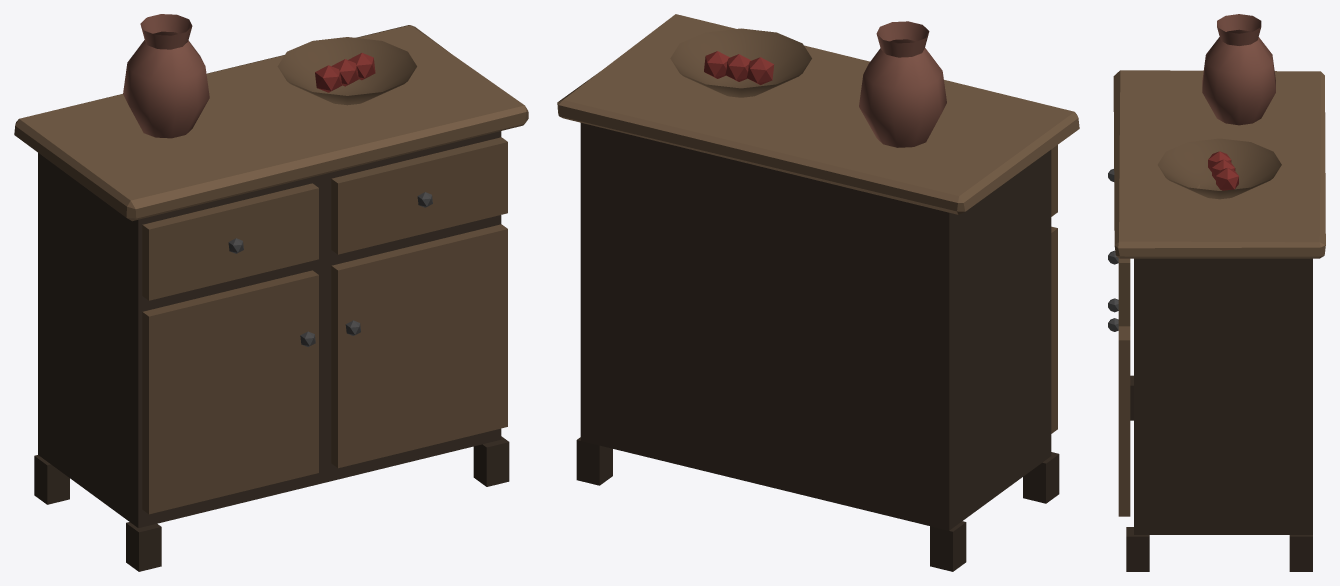
File: cabinet.glb
3 views of the same model, side by side, from view 1: azimuth 30°, elevation 25°; view 2: azimuth 150°, elevation 25°; view 3: azimuth 270°, elevation 25° (orthographic). The views are drawn at different scales.
Visible parts, largest first — view 1: cabinet; view 2: cabinet; view 3: cabinet.
Boxes of the visible parts, x1,y1,x2,y2 form: cabinet: (14,14,528,571); cabinet: (557,14,1079,571); cabinet: (1108,14,1325,571).
Size of what is drawn, in the model's own units: 1.06 by 1.21 by 0.56.
